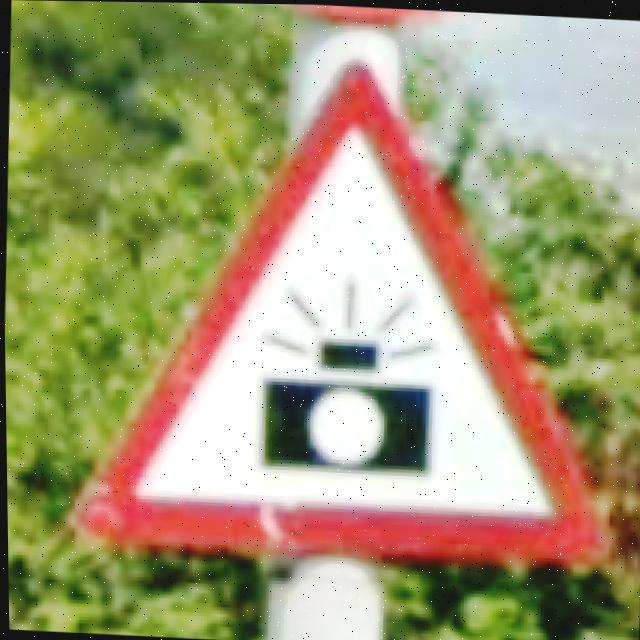speedcamera: (73, 60, 606, 559)
